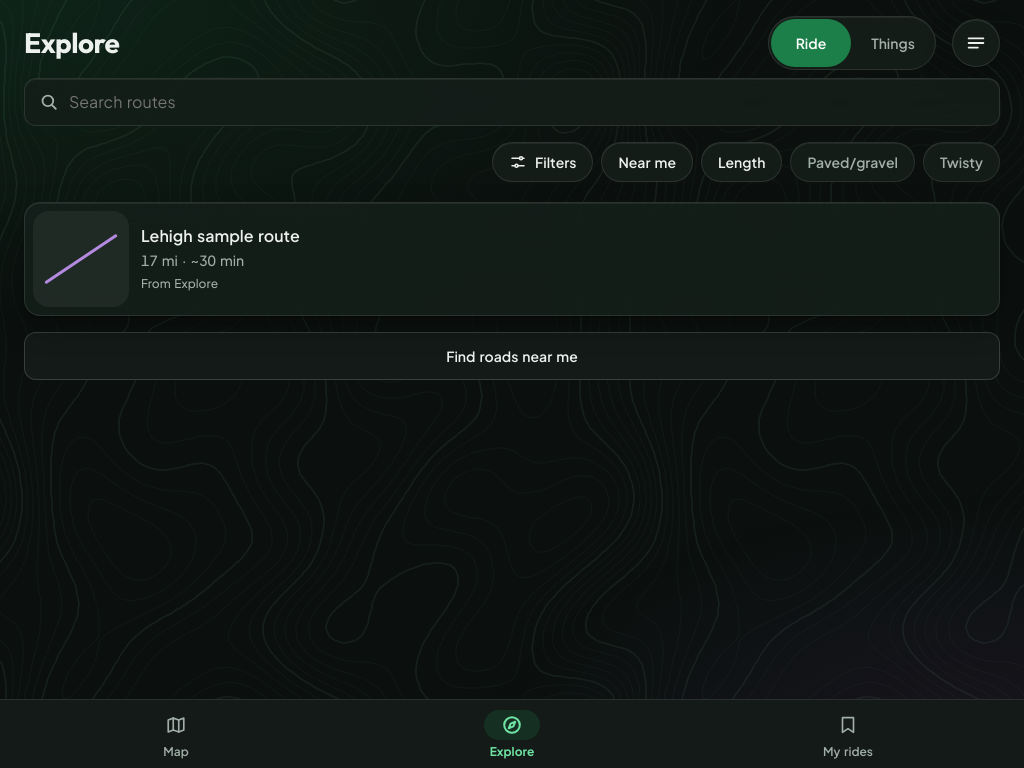
Explore UI › names the source in rider words, and keeps the long provenance off the card
Expected: the heading "Explore" is shown, [24, 27, 119, 59]
Expected: the link "Lehigh sample route 17 mi~30 min From Explore" is shown, [33, 211, 300, 307]
Click the button "Filters": coordinates (543, 162) [492, 142, 594, 182]
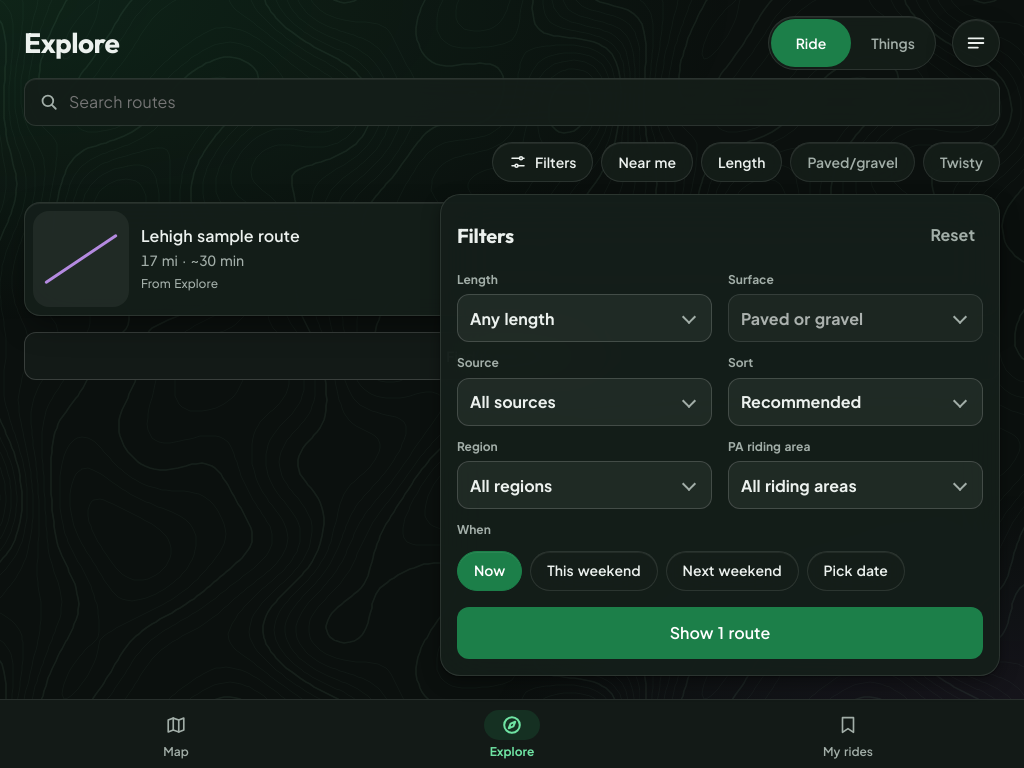
Result: the dropdown named "Filter by region" shows "All regions" at [457, 461, 712, 509]
Result: the dropdown named "Sort routes" shows "Recommended" at [728, 378, 983, 426]
Result: the dropdown named "Filter by surface" is disabled at [728, 294, 983, 342]
Select "Yours" in the dropdown named "Filter by source": coordinates (584, 402) [457, 378, 712, 426]
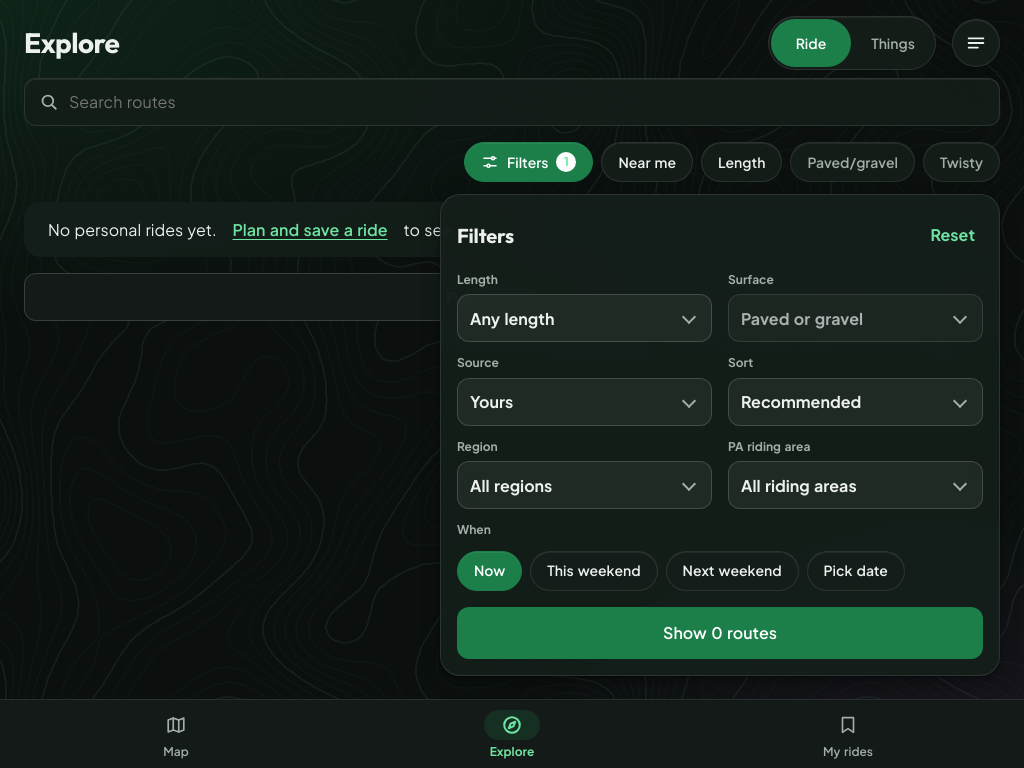
Result: the text "No personal rides yet. Plan and save a ride to see it here." is shown at [24, 202, 1000, 257]
